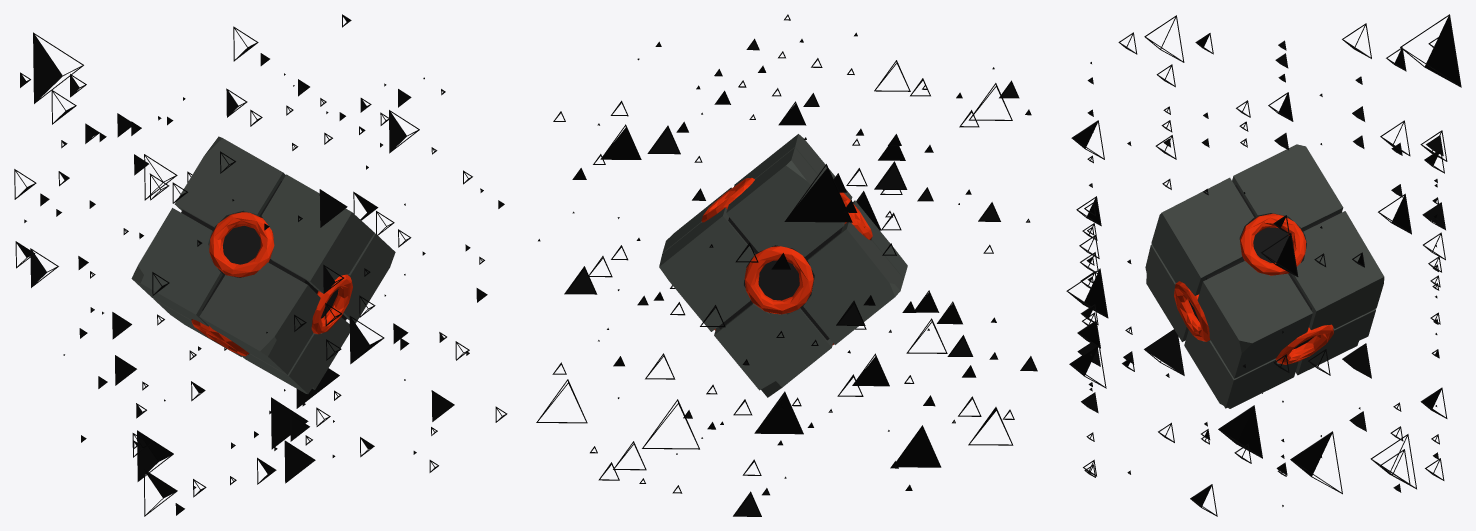
File: Low_Poly_Planet_26.fbx
3 renders of one model, left to right at view 1: azimuth 30°, elevation 25°; view 2: azimuth 150°, elevation 25°; view 3: azimuth 270°, elevation 25°, orthographic. The views are drawn at different scales.
Visible parts, largest first — view 1: Planet_26; view 2: Planet_26; view 3: Planet_26.
Boxes of the visible parts, box(x1,y1,x2,y2) form: Planet_26: box(14, 14, 507, 516); Planet_26: box(536, 14, 1037, 516); Planet_26: box(1066, 14, 1461, 516).
Bounding box in the file's own units: 474 × 504 × 489.
